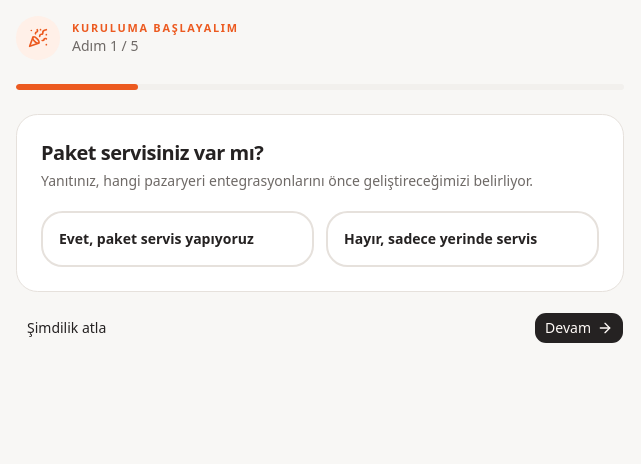
Test: OnboardingWizard › skips the platform question when the venue does not deliver
Click the button "Hayır, sadece yerinde servis" at coordinates (462, 239), box [326,211,599,267]
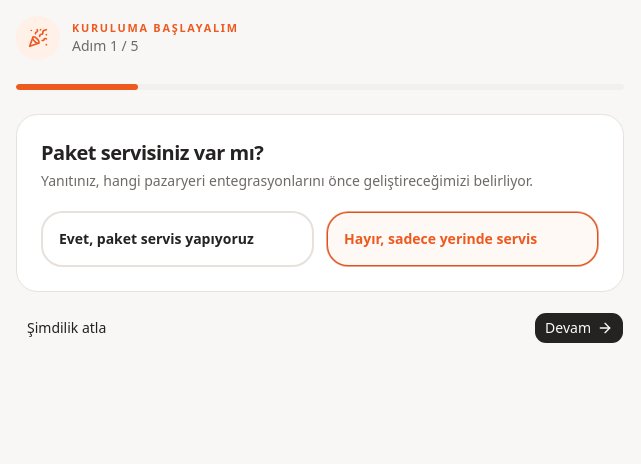
Click the button "Devam" at coordinates (579, 328), box [534,312,624,344]
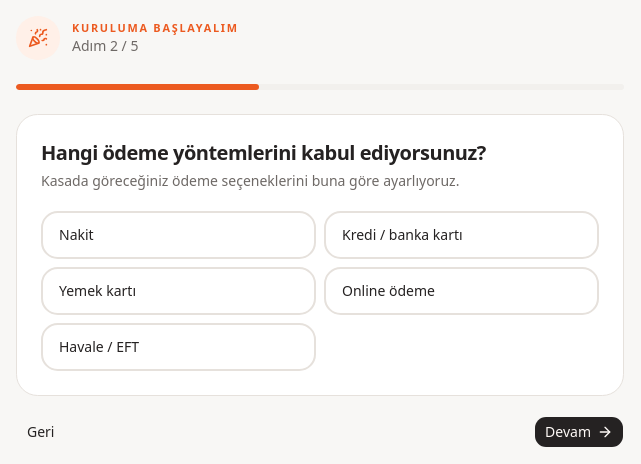
Expected: the heading "Hangi ödeme yöntemlerini kabul ediyorsunuz?" is shown, [41,139,486,166]
